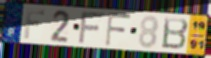2: (50, 9, 71, 44)
8: (137, 14, 161, 50)
B: (160, 16, 190, 51)
F: (104, 11, 133, 48), (77, 12, 107, 45), (23, 8, 47, 40)
